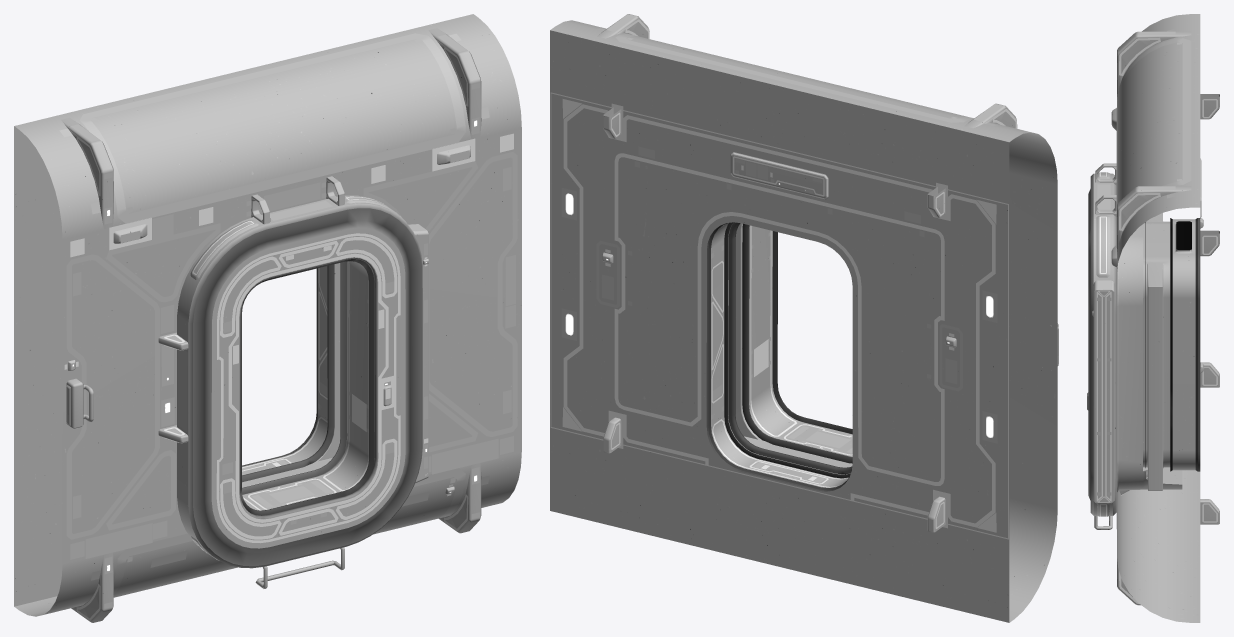
The model's file is SM_Modular_DoorModule_Merged.fbx.
3 renders of one model, left to right at view 1: azimuth 30°, elevation 25°; view 2: azimuth 150°, elevation 25°; view 3: azimuth 270°, elevation 25°, orthographic. The views are drawn at different scales.
Visible parts, largest first — view 1: SM_Modular_DoorModule_Merged_LOD0; view 2: SM_Modular_DoorModule_Merged_LOD0; view 3: SM_Modular_DoorModule_Merged_LOD0.
Boxes of the visible parts, x1=… form: SM_Modular_DoorModule_Merged_LOD0: x1=14, y1=14, x2=521, y2=622; SM_Modular_DoorModule_Merged_LOD0: x1=550, y1=14, x2=1058, y2=622; SM_Modular_DoorModule_Merged_LOD0: x1=1087, y1=14, x2=1219, y2=622.
Size of the model in its own units: 500 by 145 by 500.
